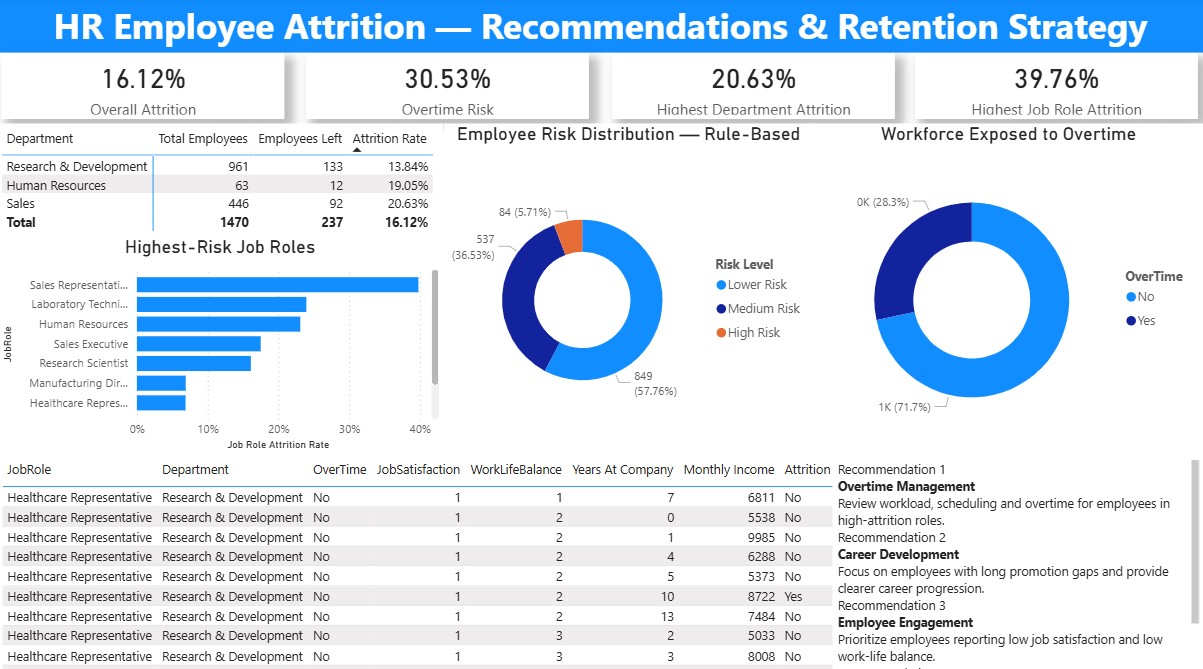

Layout of this report page (visuals, bound fields, positions):
{"tool":"powerbi","page":{"name":"HR Recommendations & Retention Strategy","canvas":[1280,720],"ordinal":3},"visuals":[{"type":"textbox","box":[0,0,1280,60],"z":0},{"type":"card","fields":{"Values":["project8_hr_employee_attrition_cleaned.Overall Attrition"]},"box":[5,60,300,70],"z":1000},{"type":"card","fields":{"Values":["project8_hr_employee_attrition_cleaned.Overtime Risk"]},"box":[328.3,60,300,70],"z":2000},{"type":"card","fields":{"Values":["project8_hr_employee_attrition_cleaned.Highest Department Attrition"]},"box":[651.7,60,300,70],"z":3000},{"type":"card","fields":{"Values":["project8_hr_employee_attrition_cleaned.Highest Job Role Attrition"]},"box":[973.3,60,300,70],"z":4000},{"type":"pivotTable","fields":{"Rows":["project8_hr_employee_attrition_cleaned.Department"],"Values":["project8_hr_employee_attrition_cleaned.Total Employees","project8_hr_employee_attrition_cleaned.Employees Left","project8_hr_employee_attrition_cleaned.Attrition Rate"]},"box":[0,135,473.3,120],"z":5000},{"type":"barChart","title":"Highest-Risk Job Roles","fields":{"Category":["project8_hr_employee_attrition_cleaned.JobRole"],"Y":["project8_hr_employee_attrition_cleaned.Job Role Attrition Rate"]},"box":[0,255,473.3,231.7],"z":6000},{"type":"donutChart","title":"Workforce Exposed to Overtime","fields":{"Category":["project8_hr_employee_attrition_cleaned.OverTime"],"Y":["project8_hr_employee_attrition_cleaned.Total Employees"]},"box":[865,135,415,351.7],"z":7000},{"type":"tableEx","fields":{"Values":["project8_hr_employee_attrition_cleaned.JobRole","project8_hr_employee_attrition_cleaned.Department","project8_hr_employee_attrition_cleaned.OverTime","project8_hr_employee_attrition_cleaned.JobSatisfaction","project8_hr_employee_attrition_cleaned.WorkLifeBalance","project8_hr_employee_attrition_cleaned.YearsAtCompany","project8_hr_employee_attrition_cleaned.MonthlyIncome","project8_hr_employee_attrition_cleaned.Attrition"]},"box":[0,486.7,905,233.3],"z":8000},{"type":"donutChart","title":"Employee Risk Distribution — Rule-Based","fields":{"Category":["project8_hr_employee_attrition_cleaned.Risk Level"],"Y":["CountNonNull(project8_hr_employee_attrition_cleaned.EmployeeNumber)"]},"box":[473.3,135,391.7,351.7],"z":9000},{"type":"textbox","box":[886.7,486.7,393.3,233.3],"z":10000}]}

Visuals, with their boxes in screenshot pixels (x1, y1, x2, y2), scaled from the page's 1280x720 canvas onto the 1203x669 screenshot:
textbox: [x1=0, y1=0, x2=1202, y2=56]
card - project8_hr_employee_attrition_cleaned.Overall Attrition: [x1=5, y1=56, x2=287, y2=121]
card - project8_hr_employee_attrition_cleaned.Overtime Risk: [x1=309, y1=56, x2=591, y2=121]
card - project8_hr_employee_attrition_cleaned.Highest Department Attrition: [x1=612, y1=56, x2=894, y2=121]
card - project8_hr_employee_attrition_cleaned.Highest Job Role Attrition: [x1=915, y1=56, x2=1197, y2=121]
pivotTable - project8_hr_employee_attrition_cleaned.Department x project8_hr_employee_attrition_cleaned.Total Employees: [x1=0, y1=125, x2=445, y2=237]
"Highest-Risk Job Roles" barChart: [x1=0, y1=237, x2=445, y2=452]
"Workforce Exposed to Overtime" donutChart: [x1=813, y1=125, x2=1202, y2=452]
tableEx - project8_hr_employee_attrition_cleaned.JobRole x project8_hr_employee_attrition_cleaned.Department: [x1=0, y1=452, x2=851, y2=668]
"Employee Risk Distribution — Rule-Based" donutChart: [x1=445, y1=125, x2=813, y2=452]
textbox: [x1=833, y1=452, x2=1202, y2=668]
